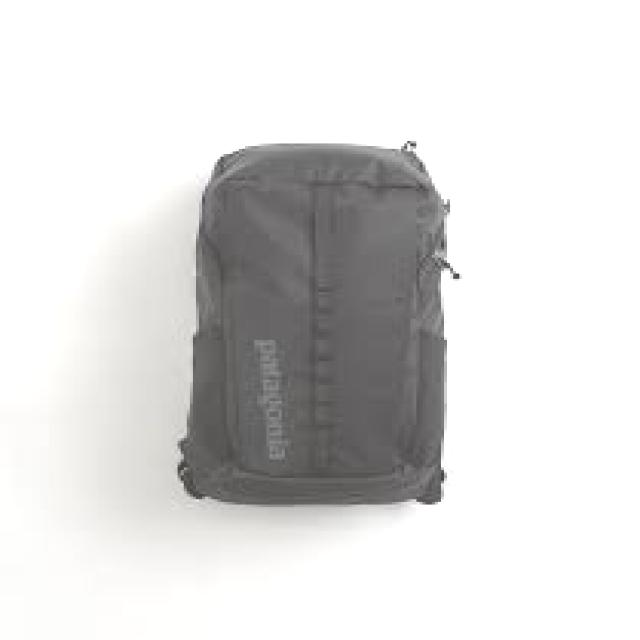backpack: (176, 140, 458, 506)
